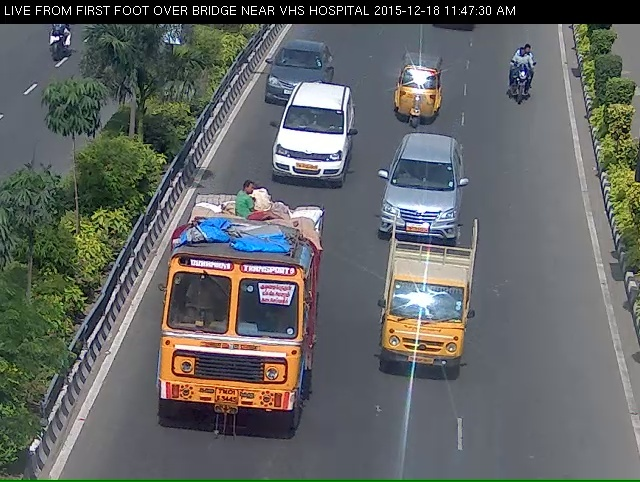Bus: (156, 204, 315, 456)
Car: (379, 241, 475, 403), (373, 144, 469, 261), (278, 92, 345, 203), (260, 46, 333, 110), (395, 63, 446, 132)
Person: (511, 51, 536, 110)
